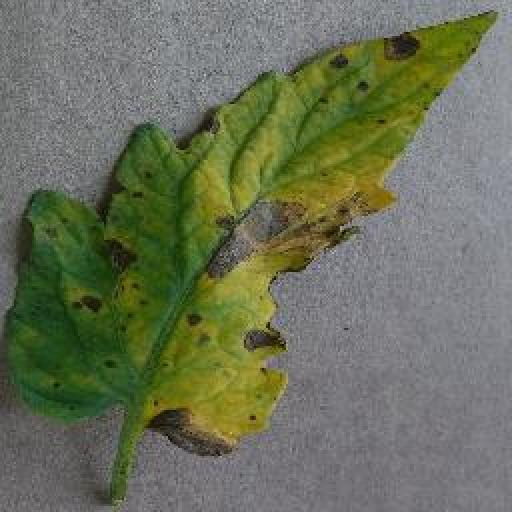Early Blight: (5, 10, 500, 458)
